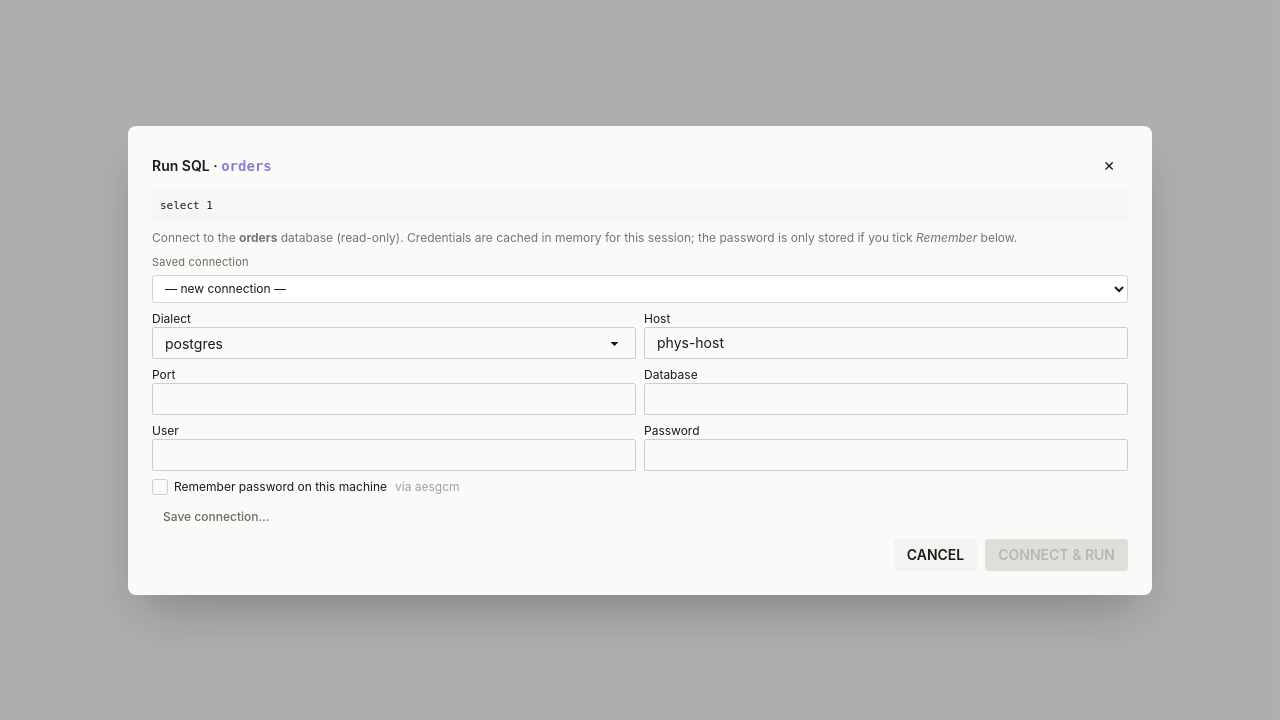
it: SqlRunModal — save / update / delete › "Save connection…" with a name POSTs the form values (no password unless opted in)
Type "app" into the field labelled "User" at [394, 454], box left=152, top=438, right=636, bottom=470
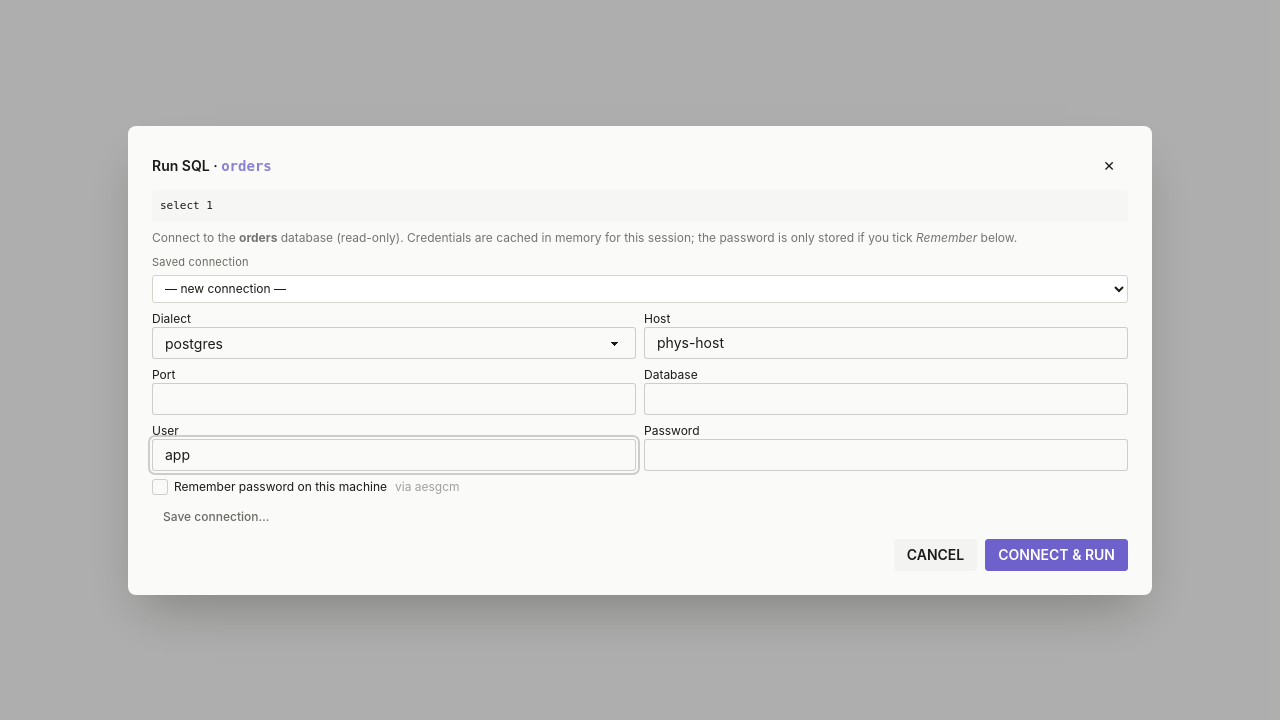
Click the button with test id "sql-save-connection" at [216, 516], box left=152, top=502, right=280, bottom=530
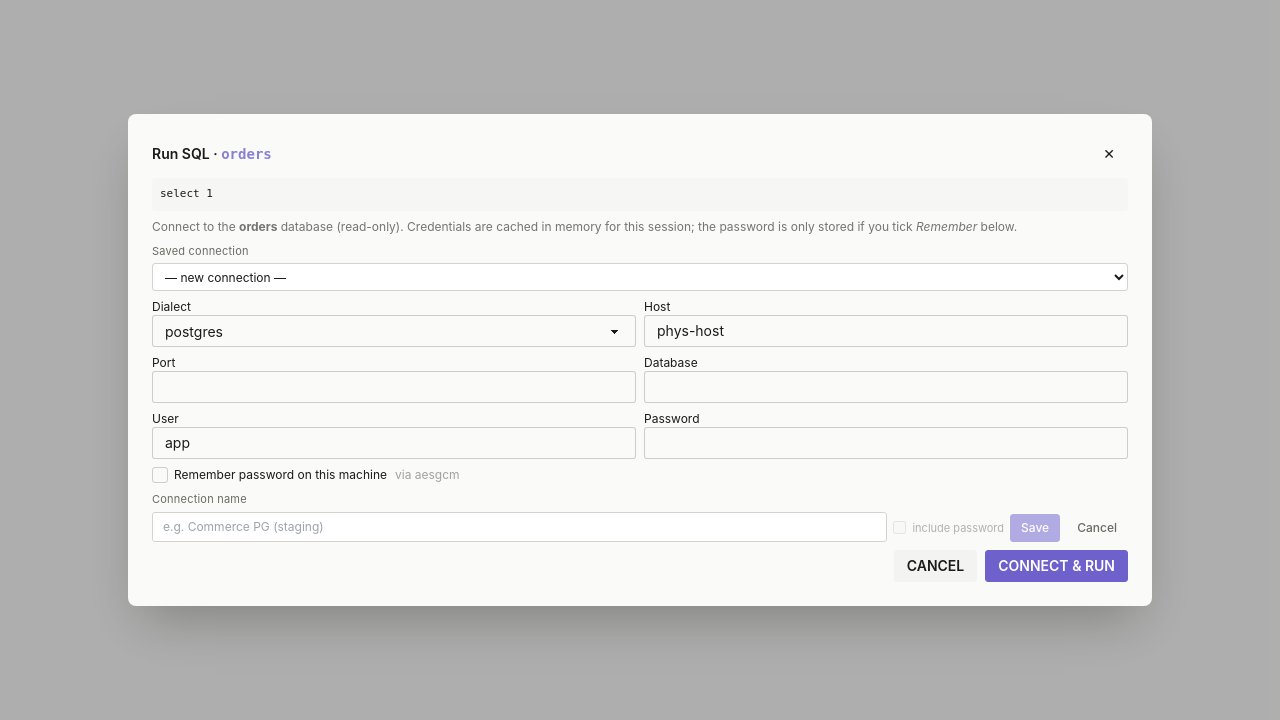
Type "My Conn" into the field with test id "sql-save-name" at [520, 527], box left=152, top=512, right=888, bottom=542
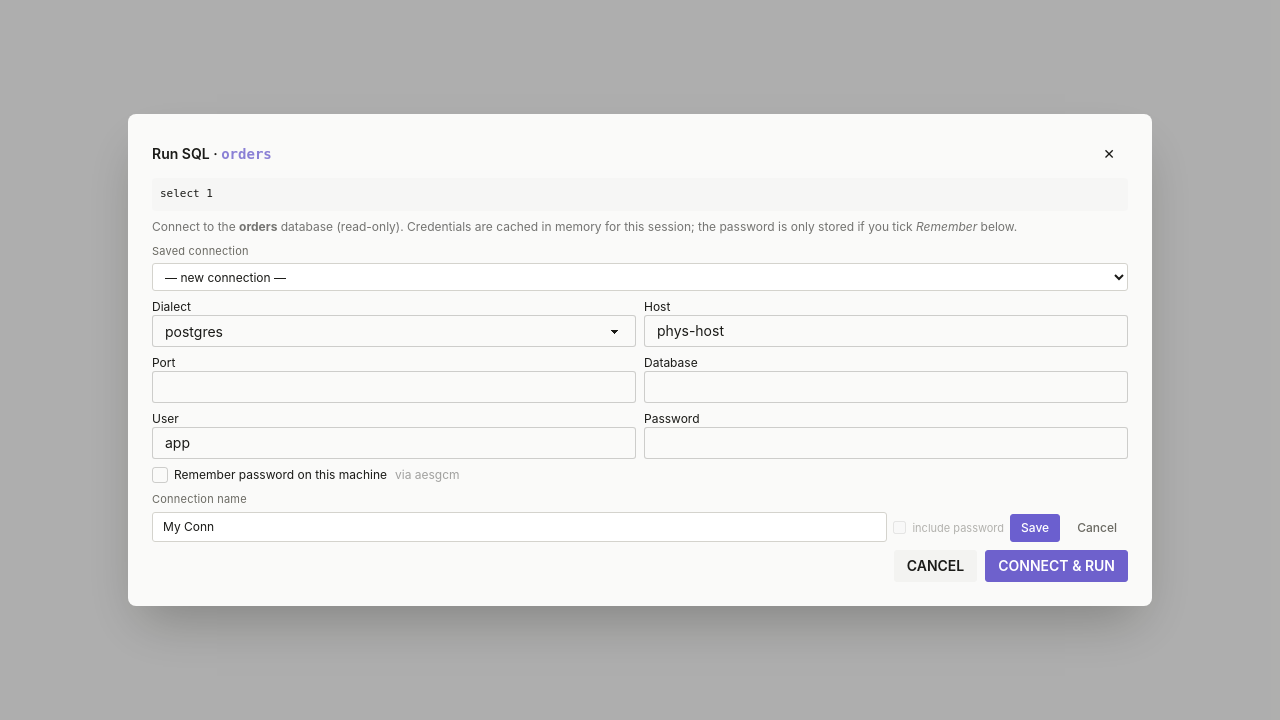
Click the button with test id "sql-save-confirm" at [1035, 528], box left=1010, top=514, right=1060, bottom=542
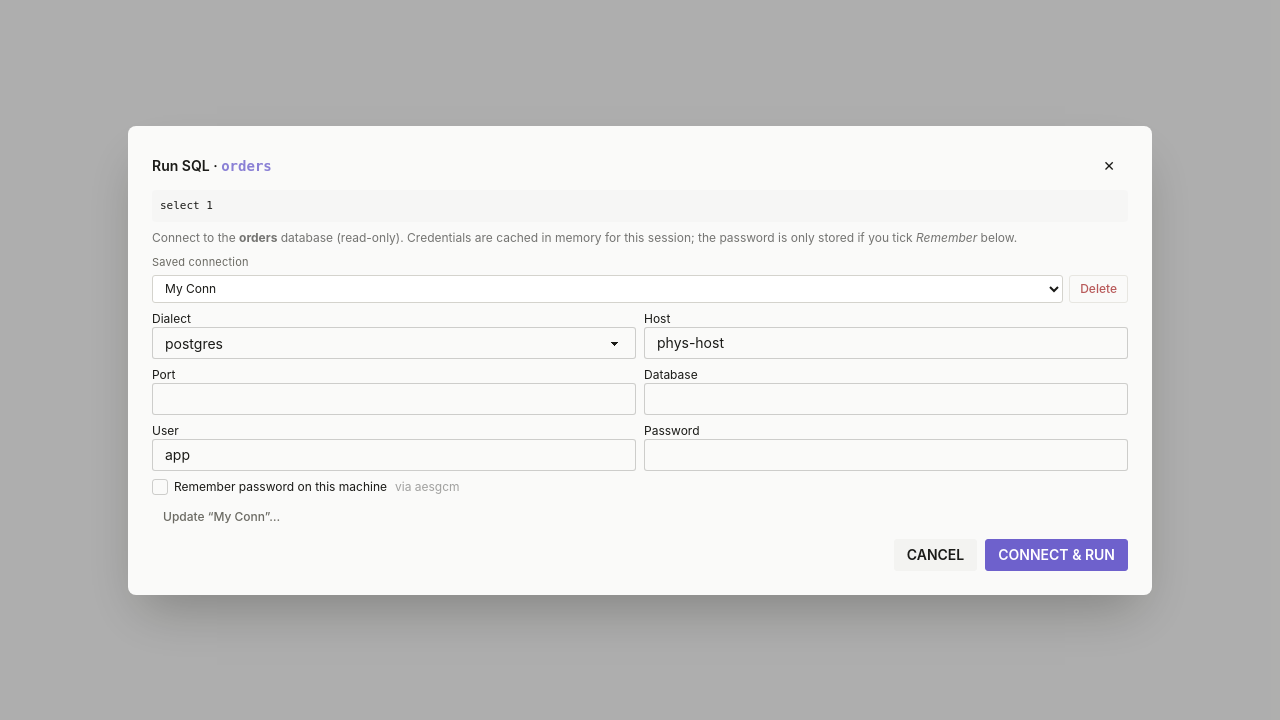
Now the dropdown with test id "sql-saved-select" shows "My Conn", box left=152, top=274, right=1063, bottom=302
